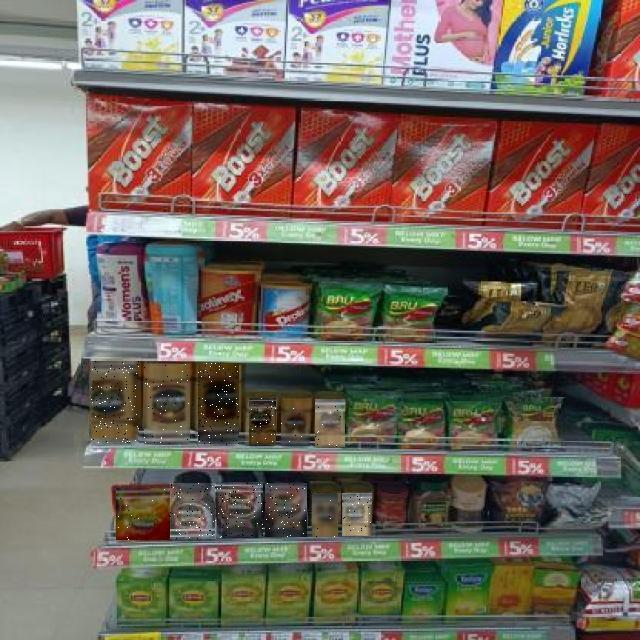Coffee: (92, 362, 140, 444), (144, 364, 190, 444), (198, 364, 239, 446), (116, 488, 170, 540), (215, 482, 263, 538), (170, 483, 216, 539), (265, 483, 307, 537), (315, 399, 345, 447), (281, 400, 310, 446), (343, 493, 373, 536), (249, 398, 276, 444), (313, 494, 339, 537)
